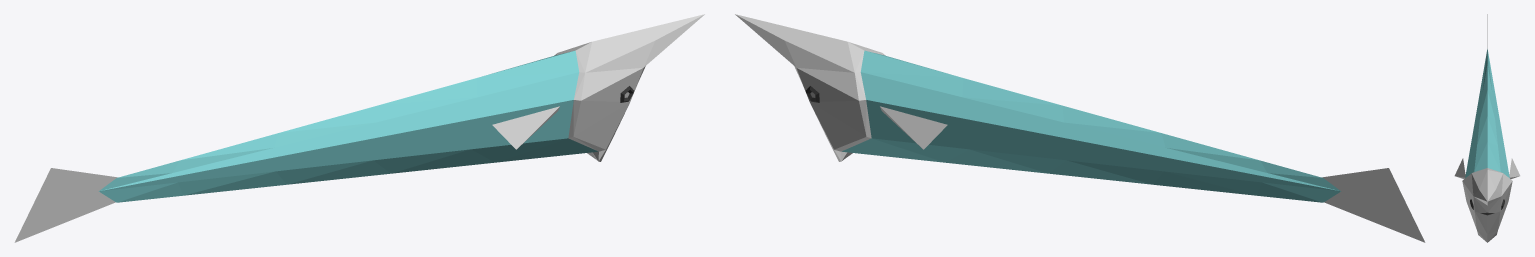
File: FISH_RhinoBarracuda.fbx
The picture shows the model from 3 angles, left to right: view 1: azimuth 30°, elevation 25°; view 2: azimuth 150°, elevation 25°; view 3: azimuth 270°, elevation 25°; orthographic projection. The views are drawn at different scales.
Parts seen in each view (by area): view 1: body1, body2, head, body3, body4, tailfin, body5, fin_pectoral_right; view 2: body1, body2, head, body3, body4, tailfin, body5, fin_pectoral_left; view 3: head, body1, body2, body3, body4, fin_pectoral_right, fin_pectoral_left, body5.
Boxes of the visible parts, box(x1,y1,x2,y2) form: body1: box(471, 50, 597, 162); body2: box(373, 78, 494, 173); head: box(554, 14, 704, 161); body3: box(274, 105, 390, 184); body4: box(173, 133, 286, 195); tailfin: box(14, 168, 117, 242); body5: box(99, 161, 182, 202); fin_pectoral_right: box(492, 106, 559, 149); body1: box(842, 50, 968, 162); body2: box(945, 78, 1066, 173); head: box(735, 14, 885, 161); body3: box(1049, 105, 1165, 184); body4: box(1153, 133, 1266, 195); tailfin: box(1322, 168, 1425, 242); body5: box(1257, 161, 1340, 202); fin_pectoral_left: box(880, 106, 947, 149); head: box(1462, 168, 1512, 242); body1: box(1465, 142, 1509, 178); body2: box(1469, 116, 1505, 151); body3: box(1474, 90, 1500, 123); body4: box(1479, 64, 1495, 96); fin_pectoral_right: box(1454, 158, 1465, 178); fin_pectoral_left: box(1509, 158, 1520, 178); body5: box(1484, 49, 1490, 68).
Size of the model in its own units: 521 by 92.45 by 74.69.
